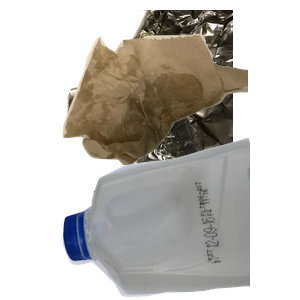glass: (102, 181, 246, 300)
metal: (60, 10, 300, 190)
plastic: (60, 135, 300, 300)
trash: (60, 31, 300, 189)
